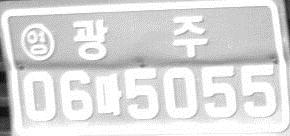0: (162, 66, 199, 118), (21, 69, 57, 122)
5: (239, 64, 277, 119), (200, 64, 237, 118), (124, 67, 159, 120)
6: (59, 69, 94, 121)
광주_D: (71, 14, 208, 61)
마: (94, 73, 123, 116)
영: (19, 22, 55, 61)
